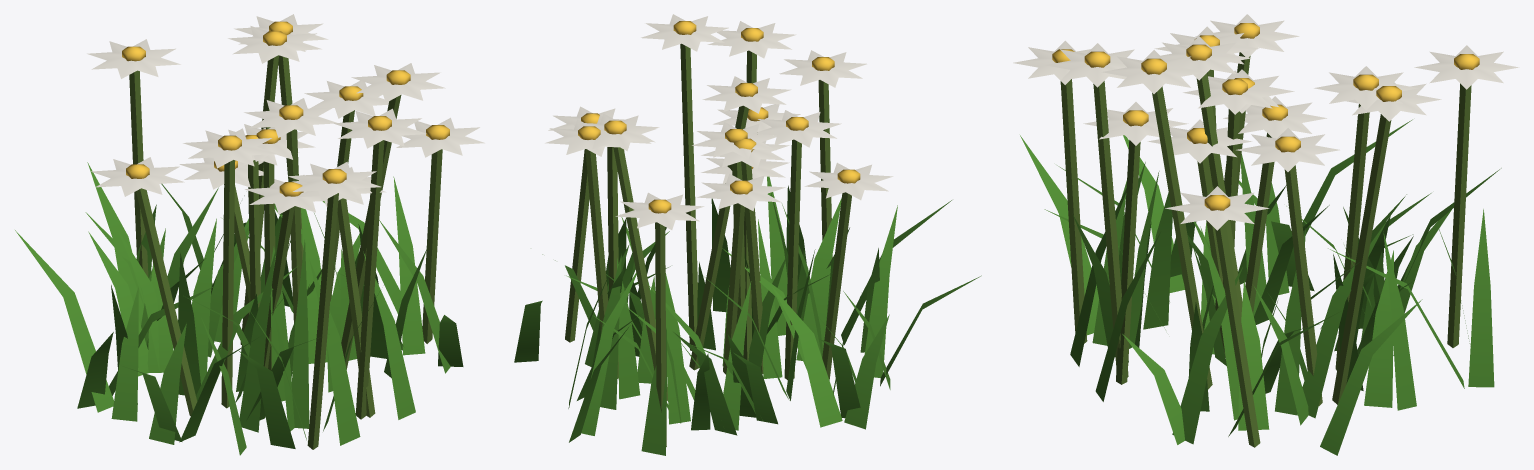
File: daisies.glb
3 views of the same model, side by side, from view 1: azimuth 30°, elevation 25°; view 2: azimuth 150°, elevation 25°; view 3: azimuth 270°, elevation 25° (orthographic). The views are drawn at different scales.
Visible parts, largest first — view 1: daisies; view 2: daisies; view 3: daisies.
Part boxes in pixels (bbox=[...]): daisies: bbox=[15, 14, 484, 455]; daisies: bbox=[514, 14, 981, 455]; daisies: bbox=[1013, 14, 1519, 455].
Bounding box in the file's own units: 1.93 × 1.45 × 1.92.
